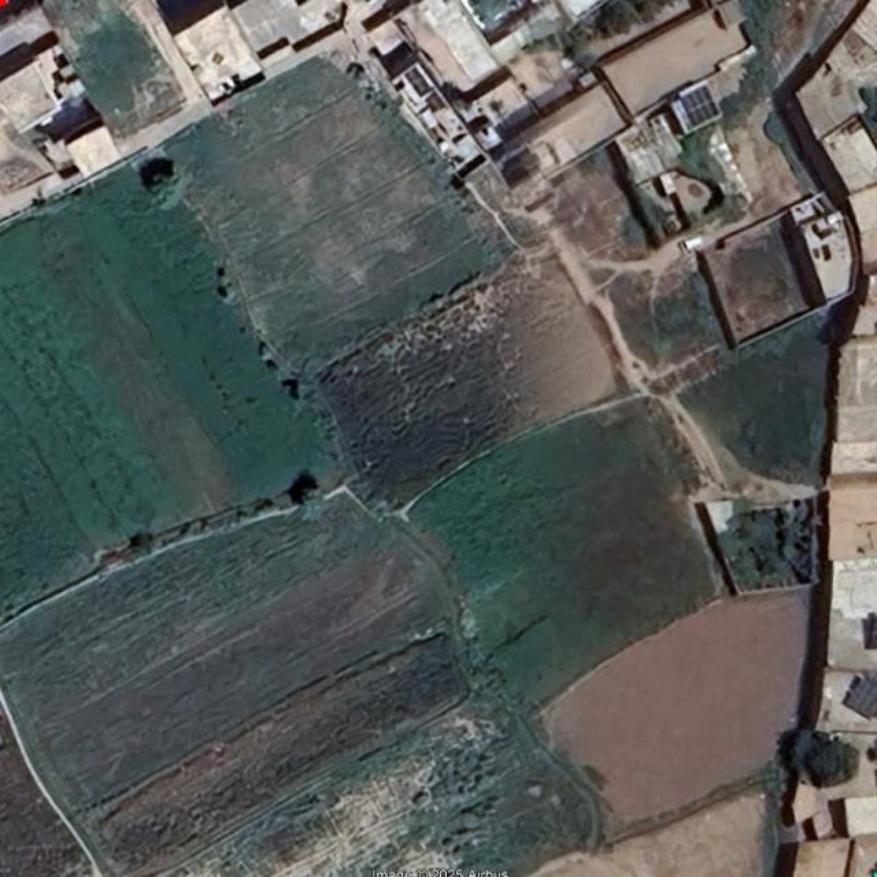Solarpanel: (679, 79, 721, 124)
